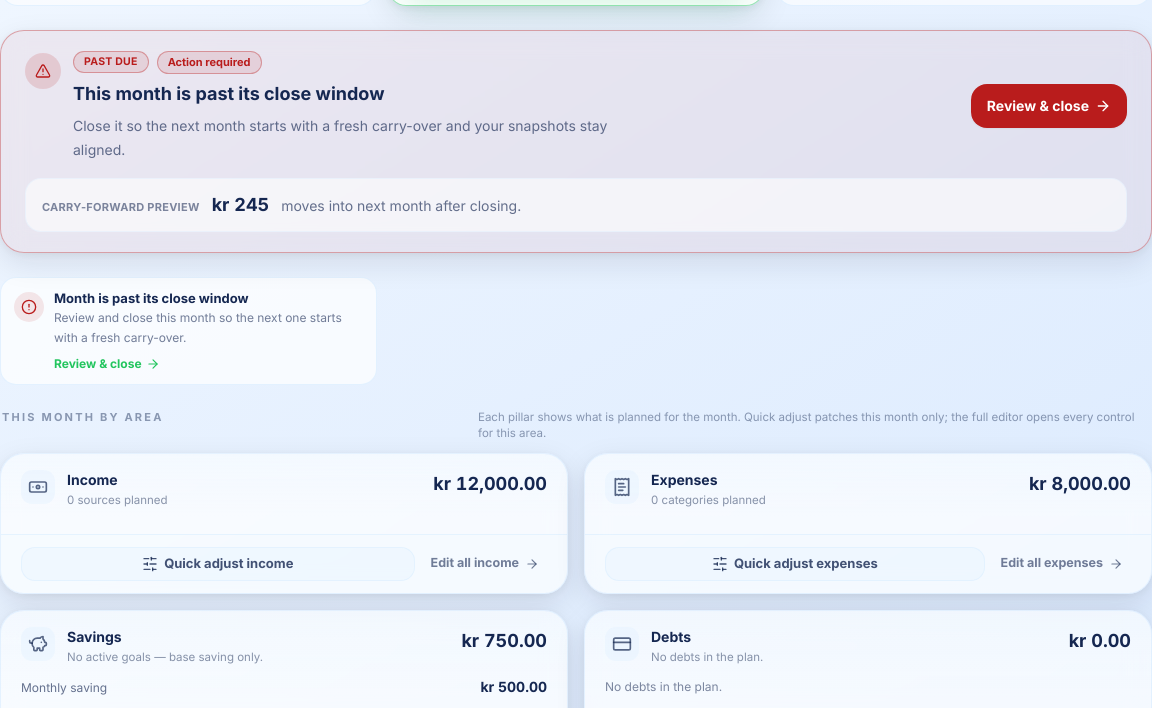
Test: DashboardContent › opens the same close month modal from the insight-card overdue close action
Click the button with test id "attention-action-overdue-close" at [107, 360], box 54,348 -> 160,372
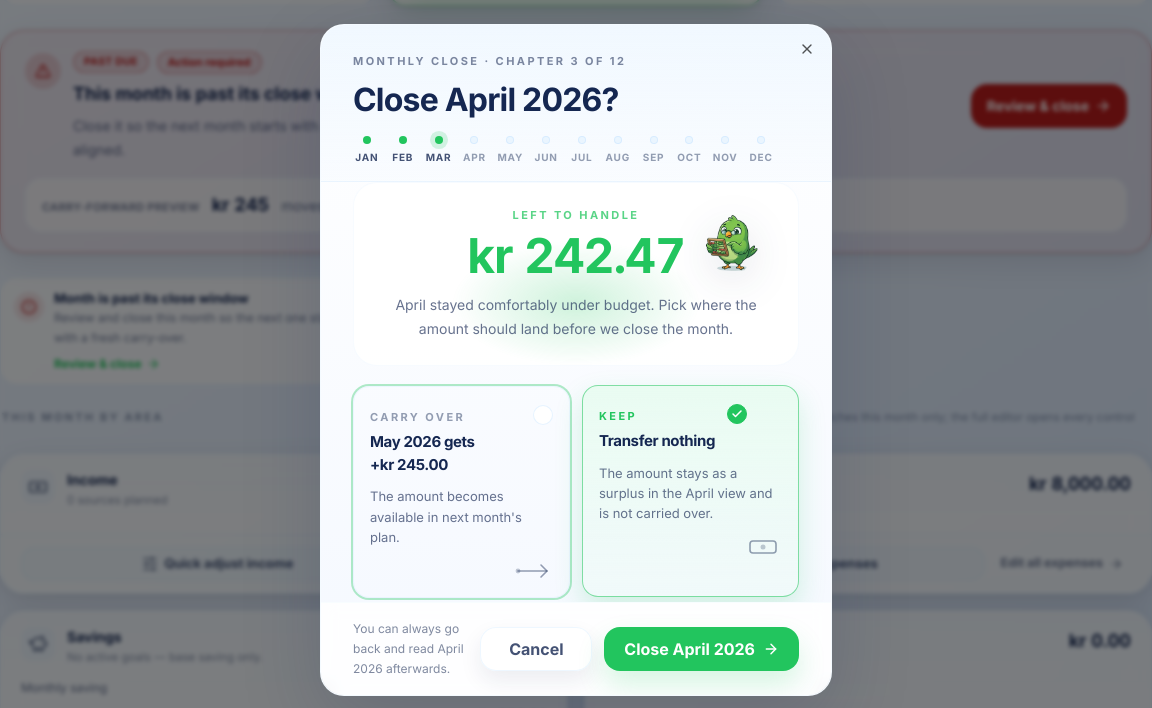
expect the heading "Close April 2026?" is shown: met, box 353,80 -> 619,118
expect the dialog with test id "close-month-modal" is shown: met, box 320,24 -> 832,696
